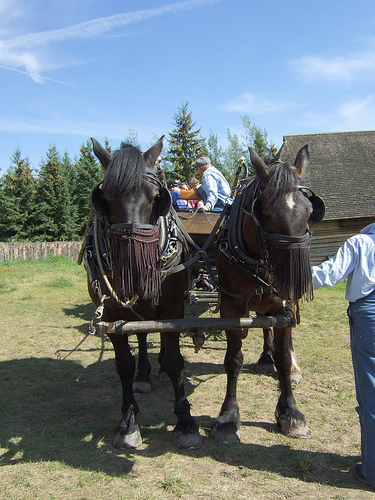horse: (79, 139, 202, 452), (208, 143, 326, 446)
